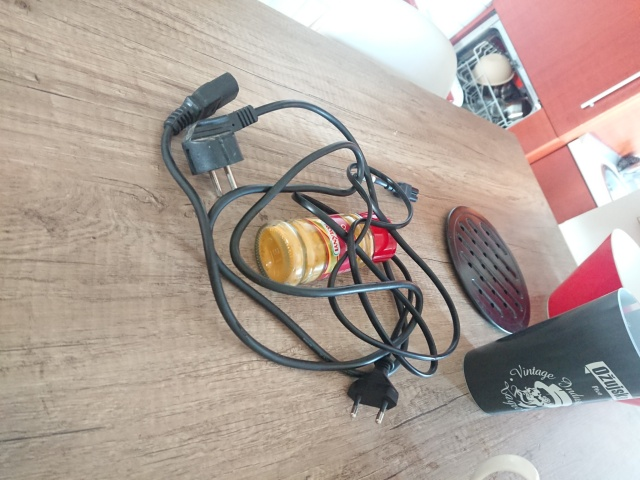Kotanyi Curry Spices Mix 70g: (250, 209, 399, 294)
